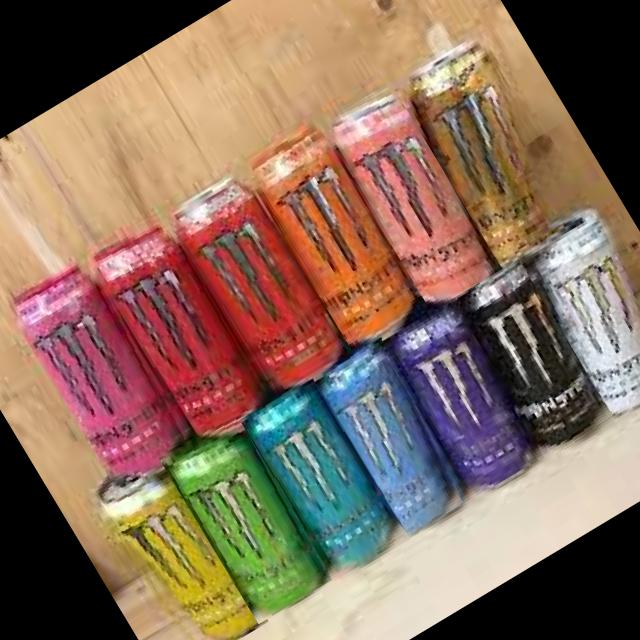Cans: (390, 29, 592, 271), (2, 248, 202, 492), (238, 114, 432, 356), (316, 75, 509, 317), (162, 163, 356, 401), (87, 207, 277, 444), (160, 410, 340, 624), (86, 445, 268, 640), (240, 376, 408, 579), (380, 300, 548, 502), (451, 258, 618, 460), (314, 336, 478, 540), (515, 201, 640, 419)
